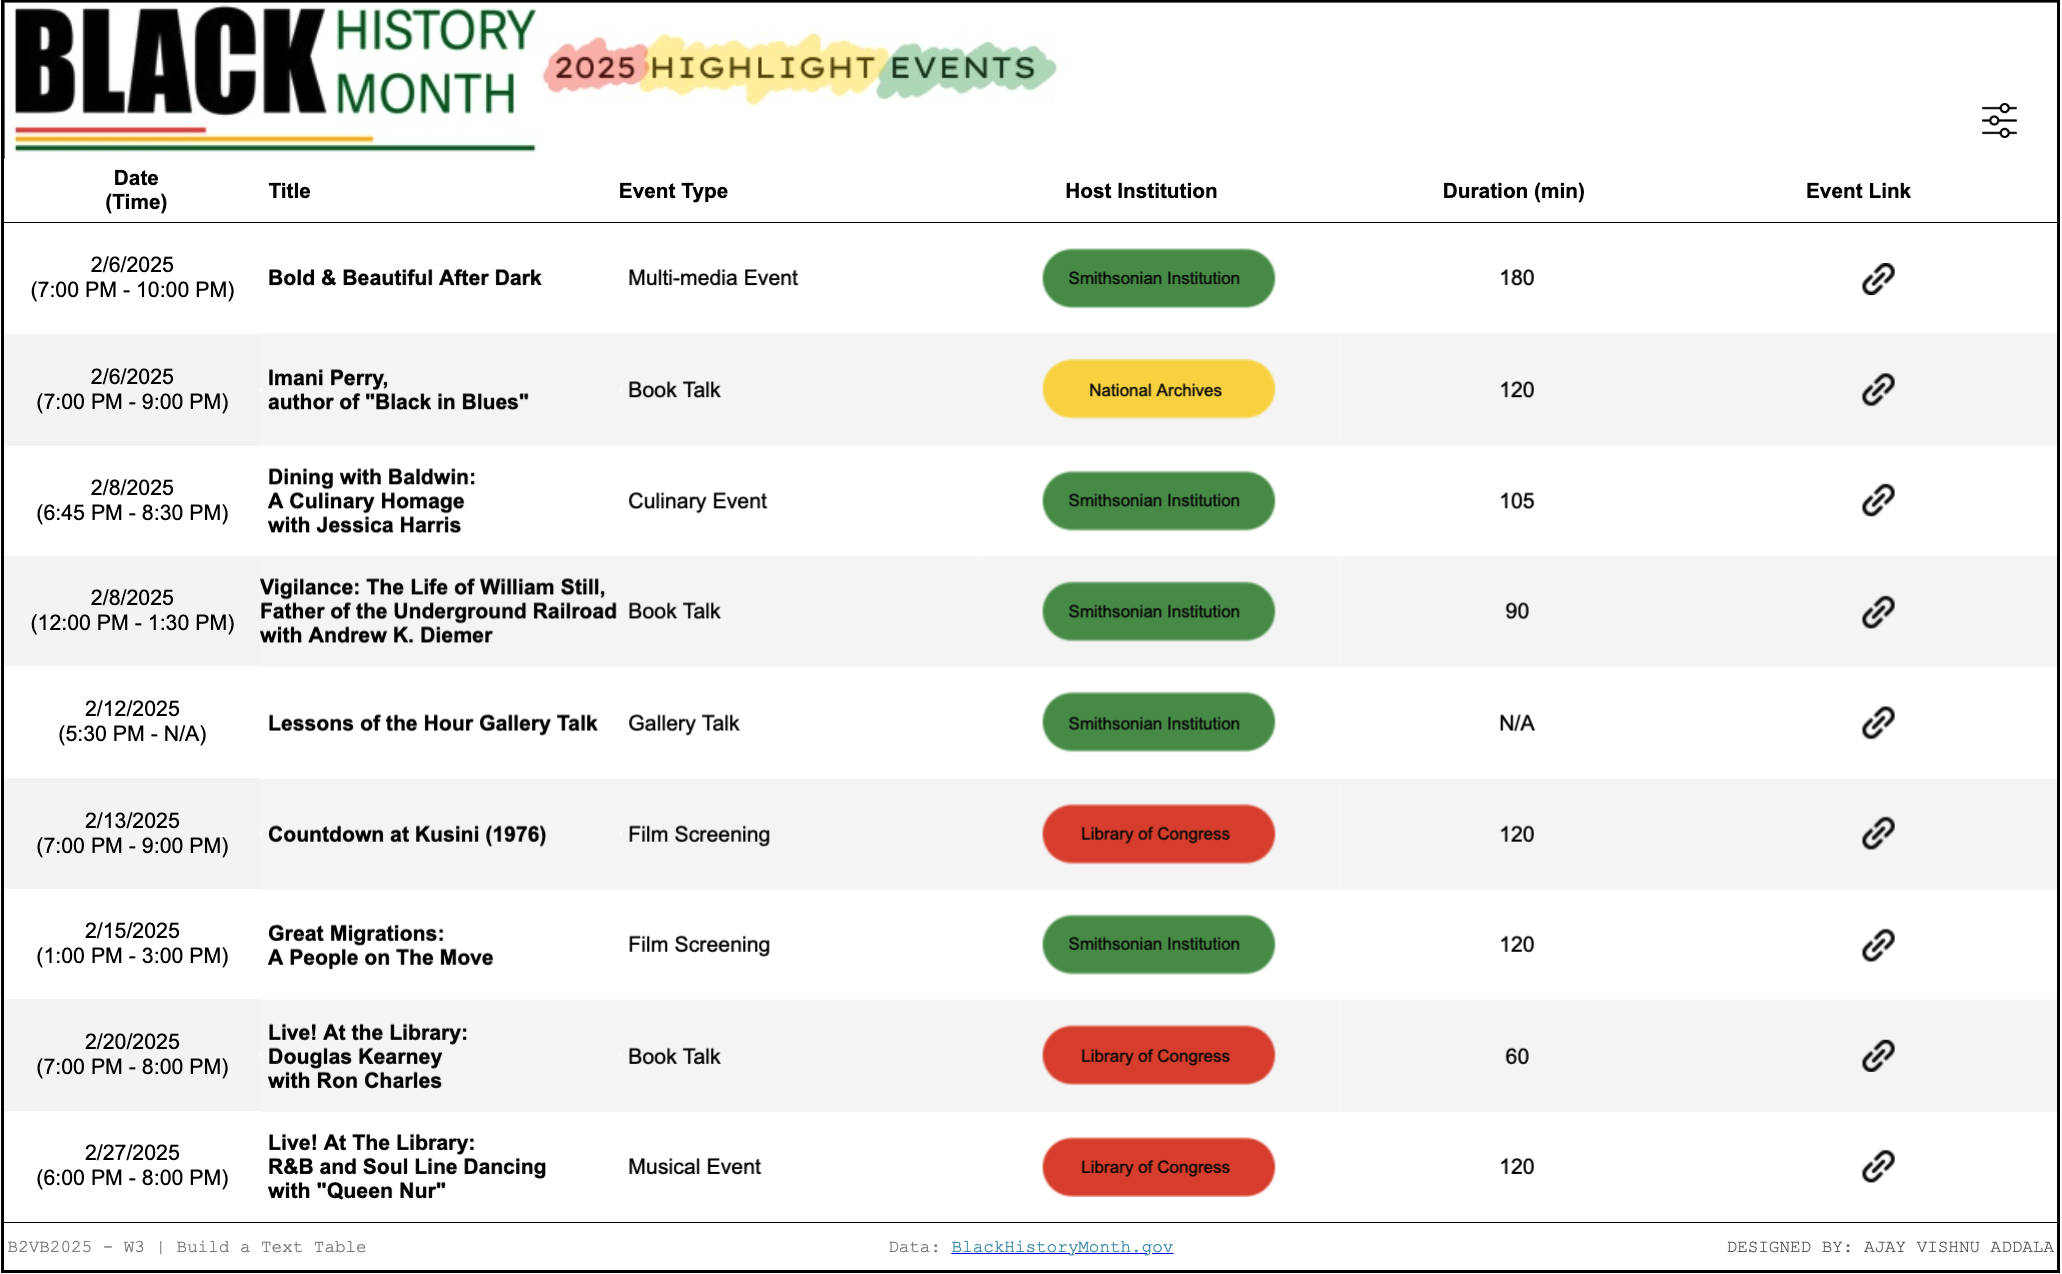

The dashboard page shown, as its layout file describes it:
{"tool":"tableau","page":{"name":"B2VB2025 W3","canvas":[1291,800],"ordinal":0},"visuals":[{"type":"image","param":"Image/Untitled design.png","box":[4,4,1283,98]},{"type":"parameter","param":"[Parameters].[Parameter 1]","box":[980,45,149,50]},{"type":"parameter","param":"[Parameters].[Parameter 2]","box":[1129,45,101,50]},{"type":"dashboard-object","box":[1236,63,30,30]},{"type":"text","box":[2,102,167,40]},{"type":"text","box":[169,102,219,40]},{"type":"text","box":[388,102,279,40]},{"type":"text","box":[667,102,236,40]},{"type":"text","box":[903,102,227,40]},{"type":"text","box":[1130,102,159,40]},{"type":"worksheet","title":"Table","mark":"Circle","rows":["Calculation_853291441878290450"],"cols":["Calculation_853291441863282691","Calculation_853291441863282691","Calculation_853291441863282691","Calculation_853291441863282691","Calculation_853291441863282691"],"box":[2,142,1287,624]},{"type":"text","box":[4,767,443,29]},{"type":"text","box":[447,767,397,29]},{"type":"text","box":[844,767,443,29]}]}

Visuals, with their boxes in screenshot pixels (x1, y1, x2, y2), scaled from the page's 1291x800 canvas onto the 2062x1274 screenshot:
image: detection(6, 6, 2056, 162)
parameter: detection(1565, 72, 1803, 151)
parameter: detection(1803, 72, 1965, 151)
dashboard-object: detection(1974, 100, 2022, 148)
text: detection(3, 162, 270, 226)
text: detection(270, 162, 620, 226)
text: detection(620, 162, 1065, 226)
text: detection(1065, 162, 1442, 226)
text: detection(1442, 162, 1805, 226)
text: detection(1805, 162, 2059, 226)
"Table" worksheet (Circle marks): detection(3, 226, 2059, 1220)
text: detection(6, 1221, 714, 1268)
text: detection(714, 1221, 1348, 1268)
text: detection(1348, 1221, 2056, 1268)
